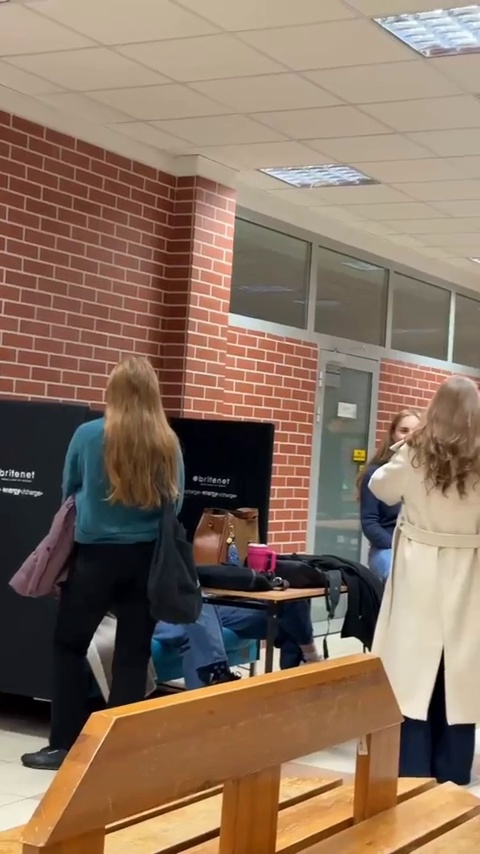no vest: (55, 349, 187, 731), (362, 368, 480, 723)
